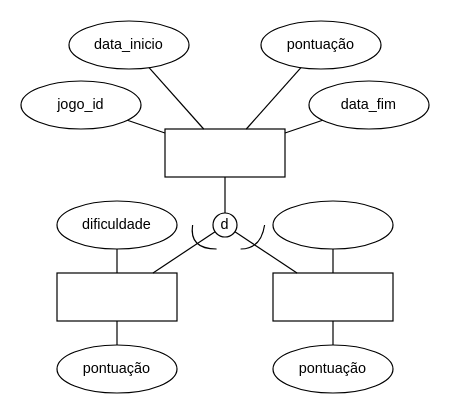
The diagram is 450 pixels wide and 414 high, and some of its shapes have lost their labels. The shapes that lost their labels are listed below. From the top down, each one's box as (x1, y1, x2, y2) in pixels, then its label:
(164, 128, 285, 177): Partida
(272, 200, 393, 249): estado
(56, 272, 177, 321): Normal
(272, 272, 393, 321): Multijogador
